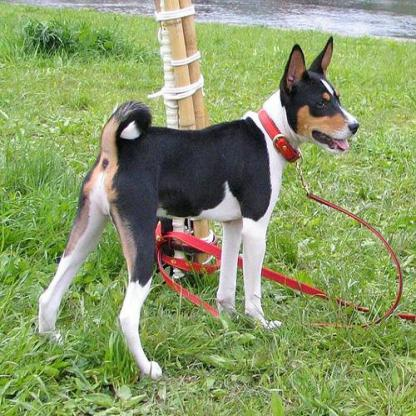basenji: (37, 35, 358, 382)
